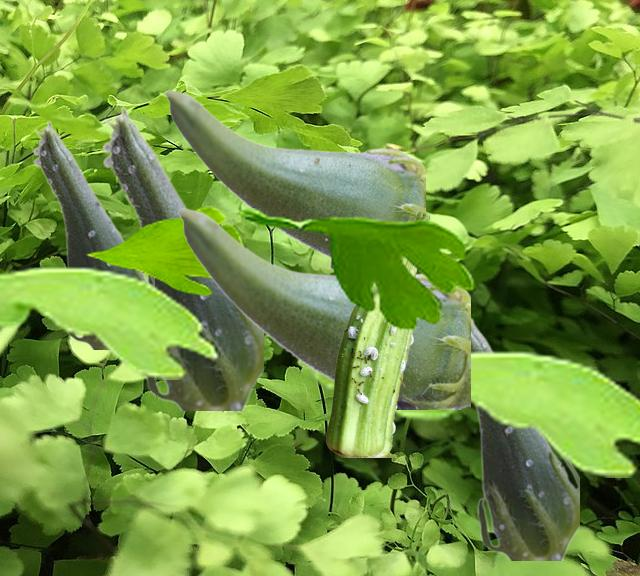okra: (177, 207, 469, 408), (101, 106, 262, 409), (164, 89, 424, 268), (32, 120, 152, 348), (470, 315, 578, 559), (326, 211, 429, 456)
